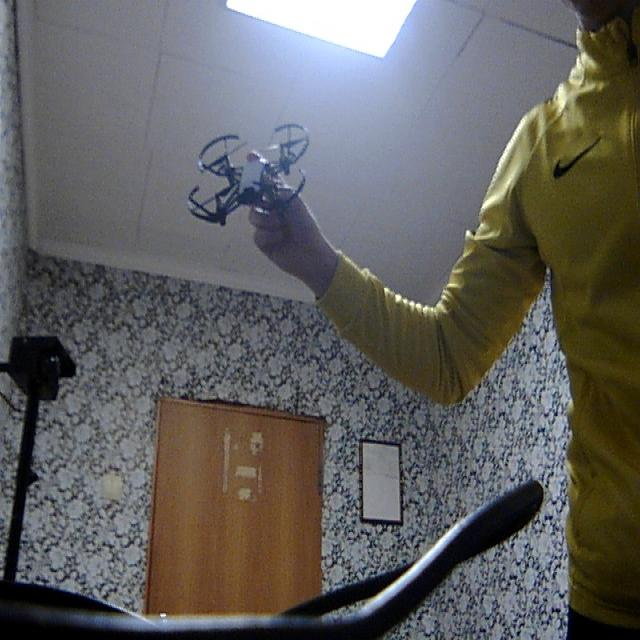drone: (185, 104, 324, 232)
